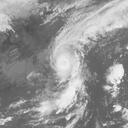cyclone: (51, 44, 78, 78)
